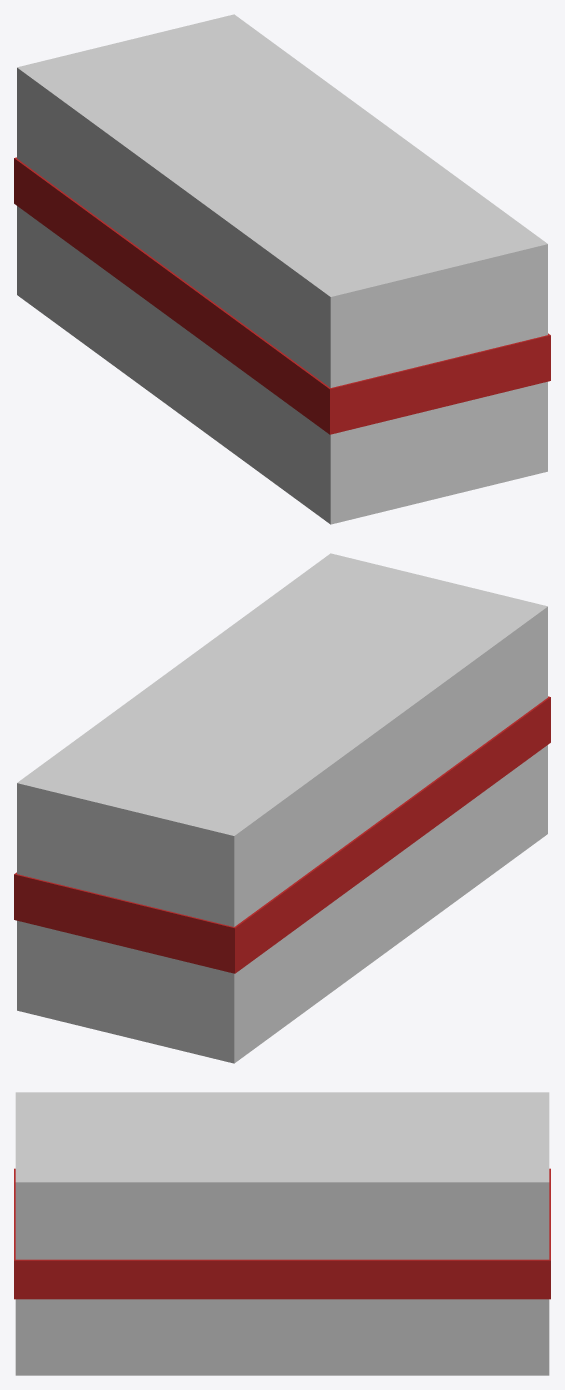
Rendered from ambulance.glb.
The picture shows the model from 3 angles, top to bottom: view 1: azimuth 30°, elevation 25°; view 2: azimuth 150°, elevation 25°; view 3: azimuth 270°, elevation 25°; orthographic projection. The views are drawn at different scales.
Size of the model in its own units: 3.05 by 3 by 7.55.
